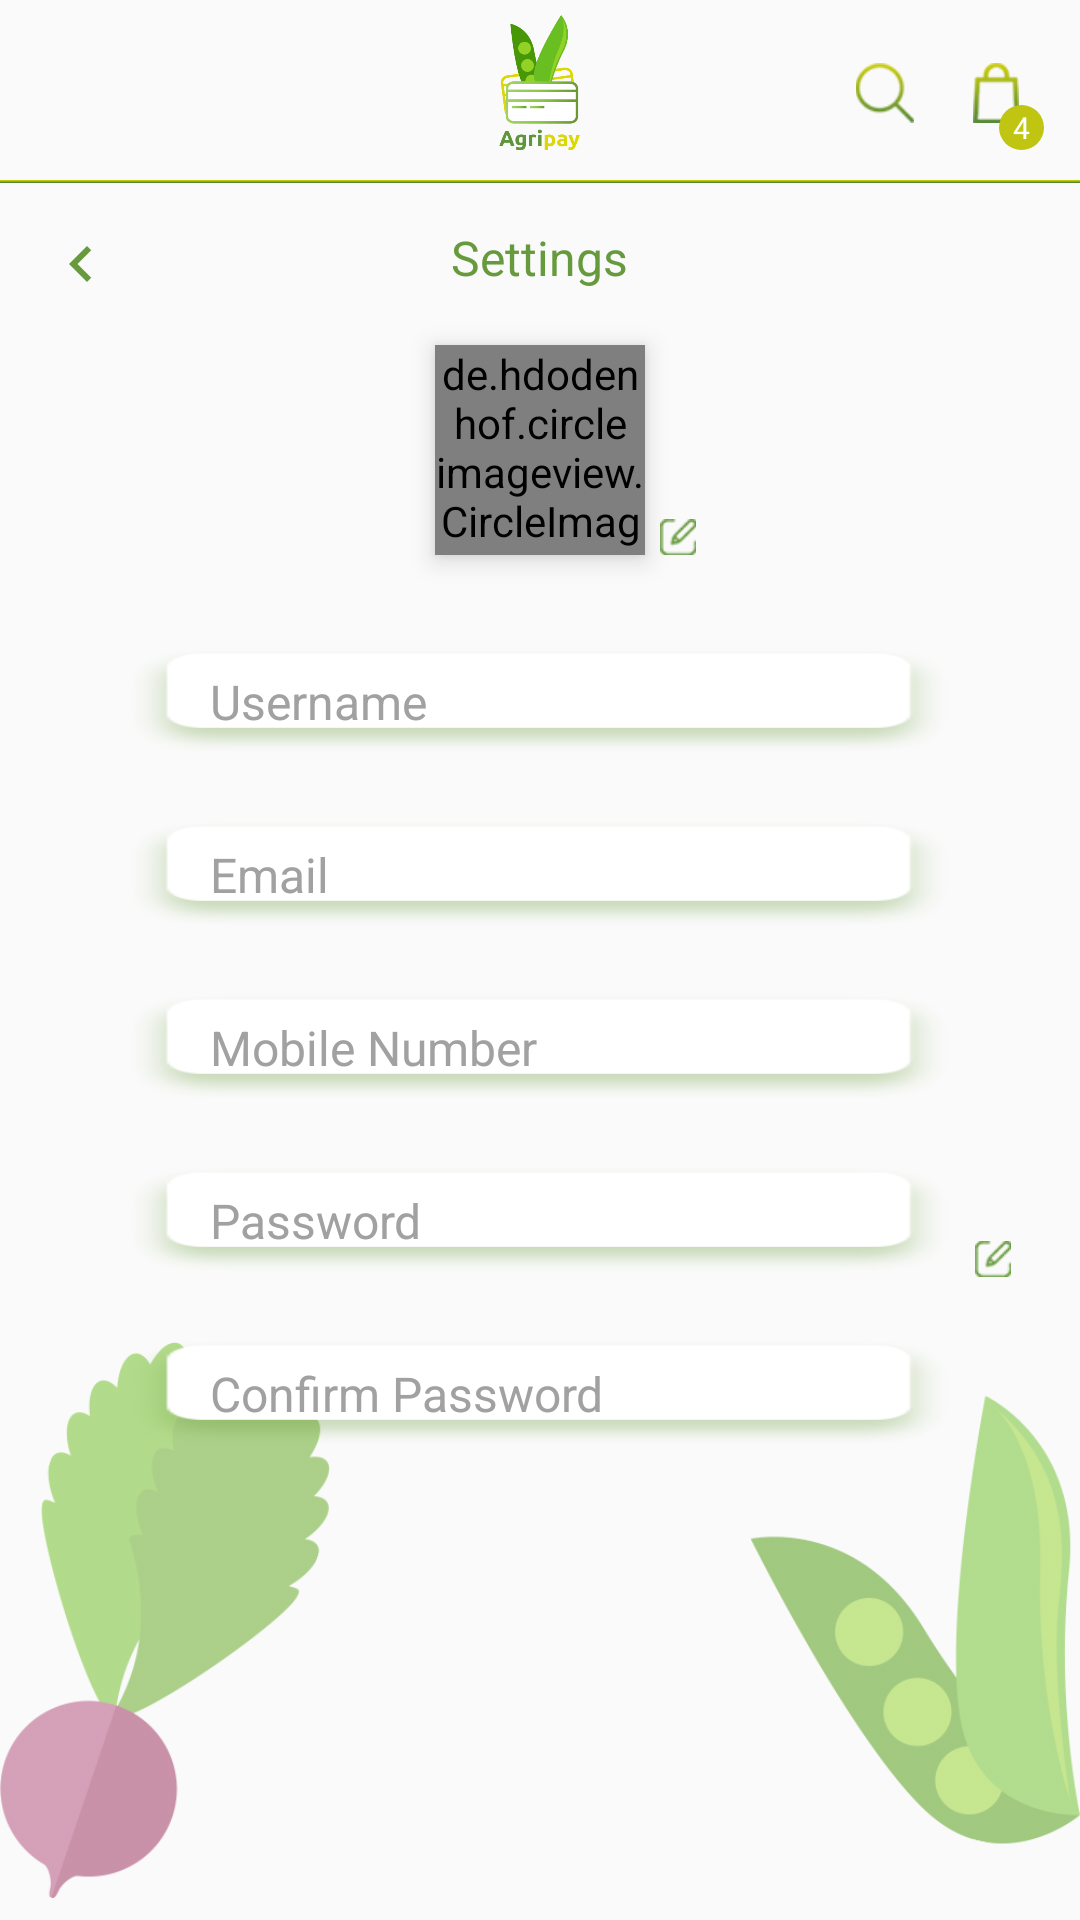

Named icons in this screenshot (1080 x 1920) and their centers, point (x, y):
chevron left: point (80, 264)
edit: point (678, 537), point (993, 1259)
search: point (885, 93)
shop cart: point (999, 93)
